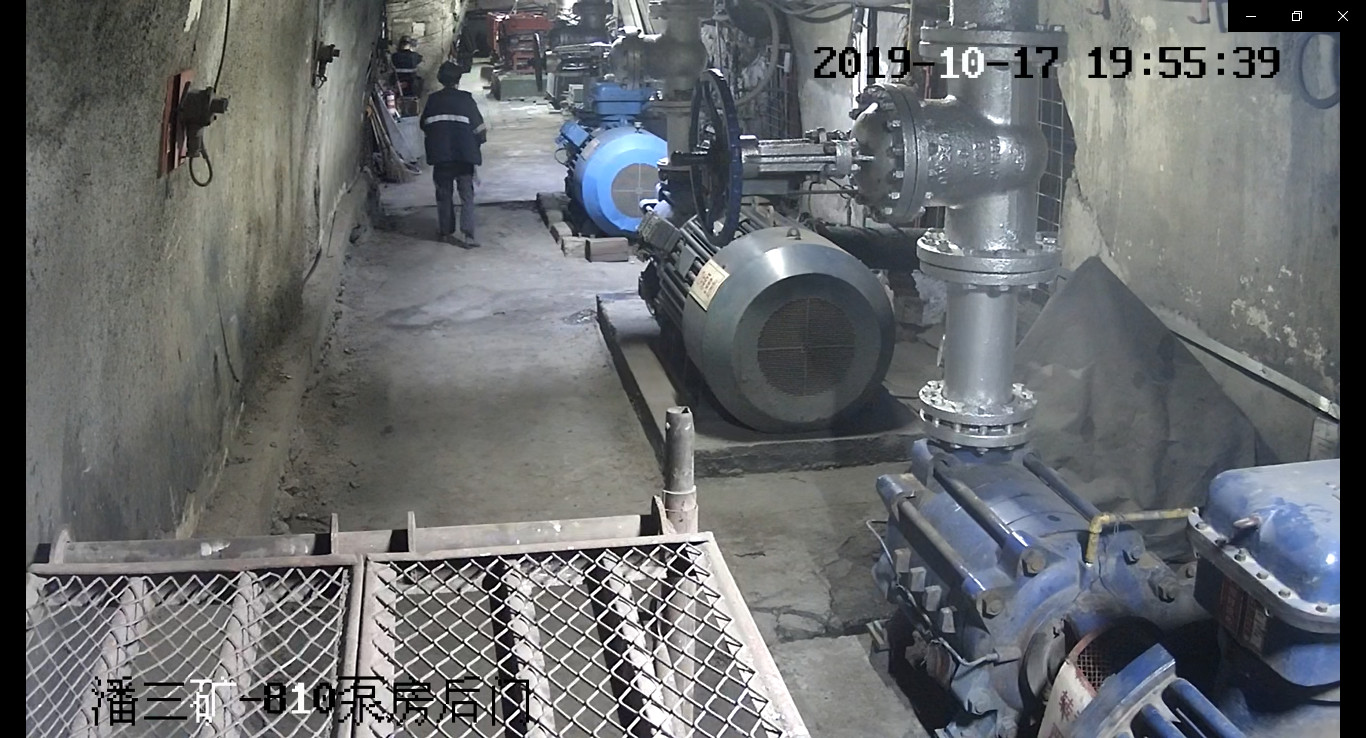helmet: (437, 60, 465, 78)
